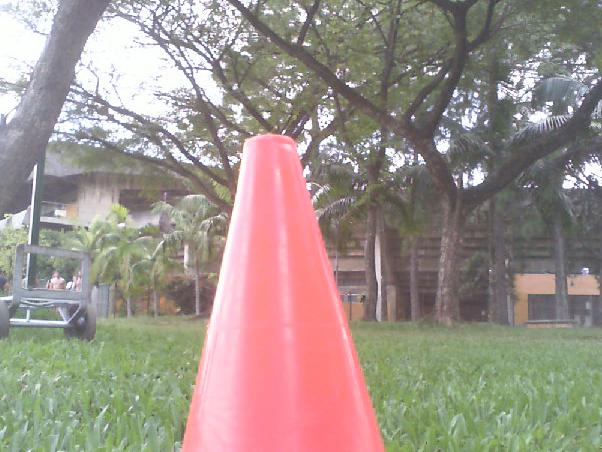0 cone: (179, 134, 386, 452)
